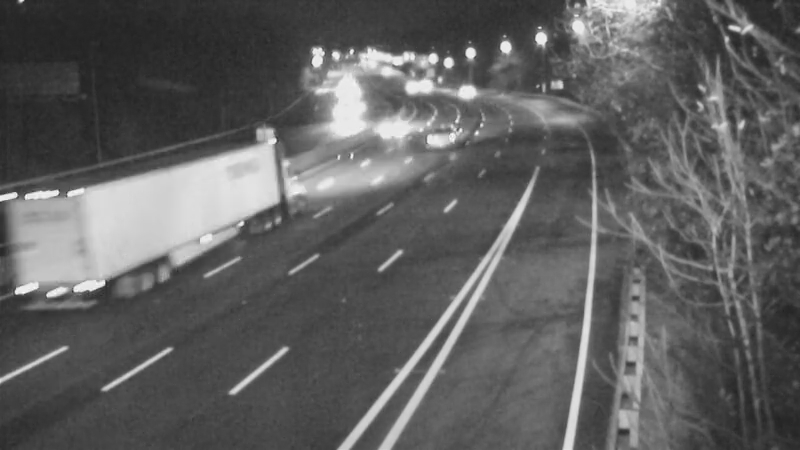vehicle: (124, 167, 204, 247), (387, 63, 437, 113), (444, 68, 494, 118), (414, 113, 464, 163), (371, 102, 421, 152), (318, 91, 368, 141)
